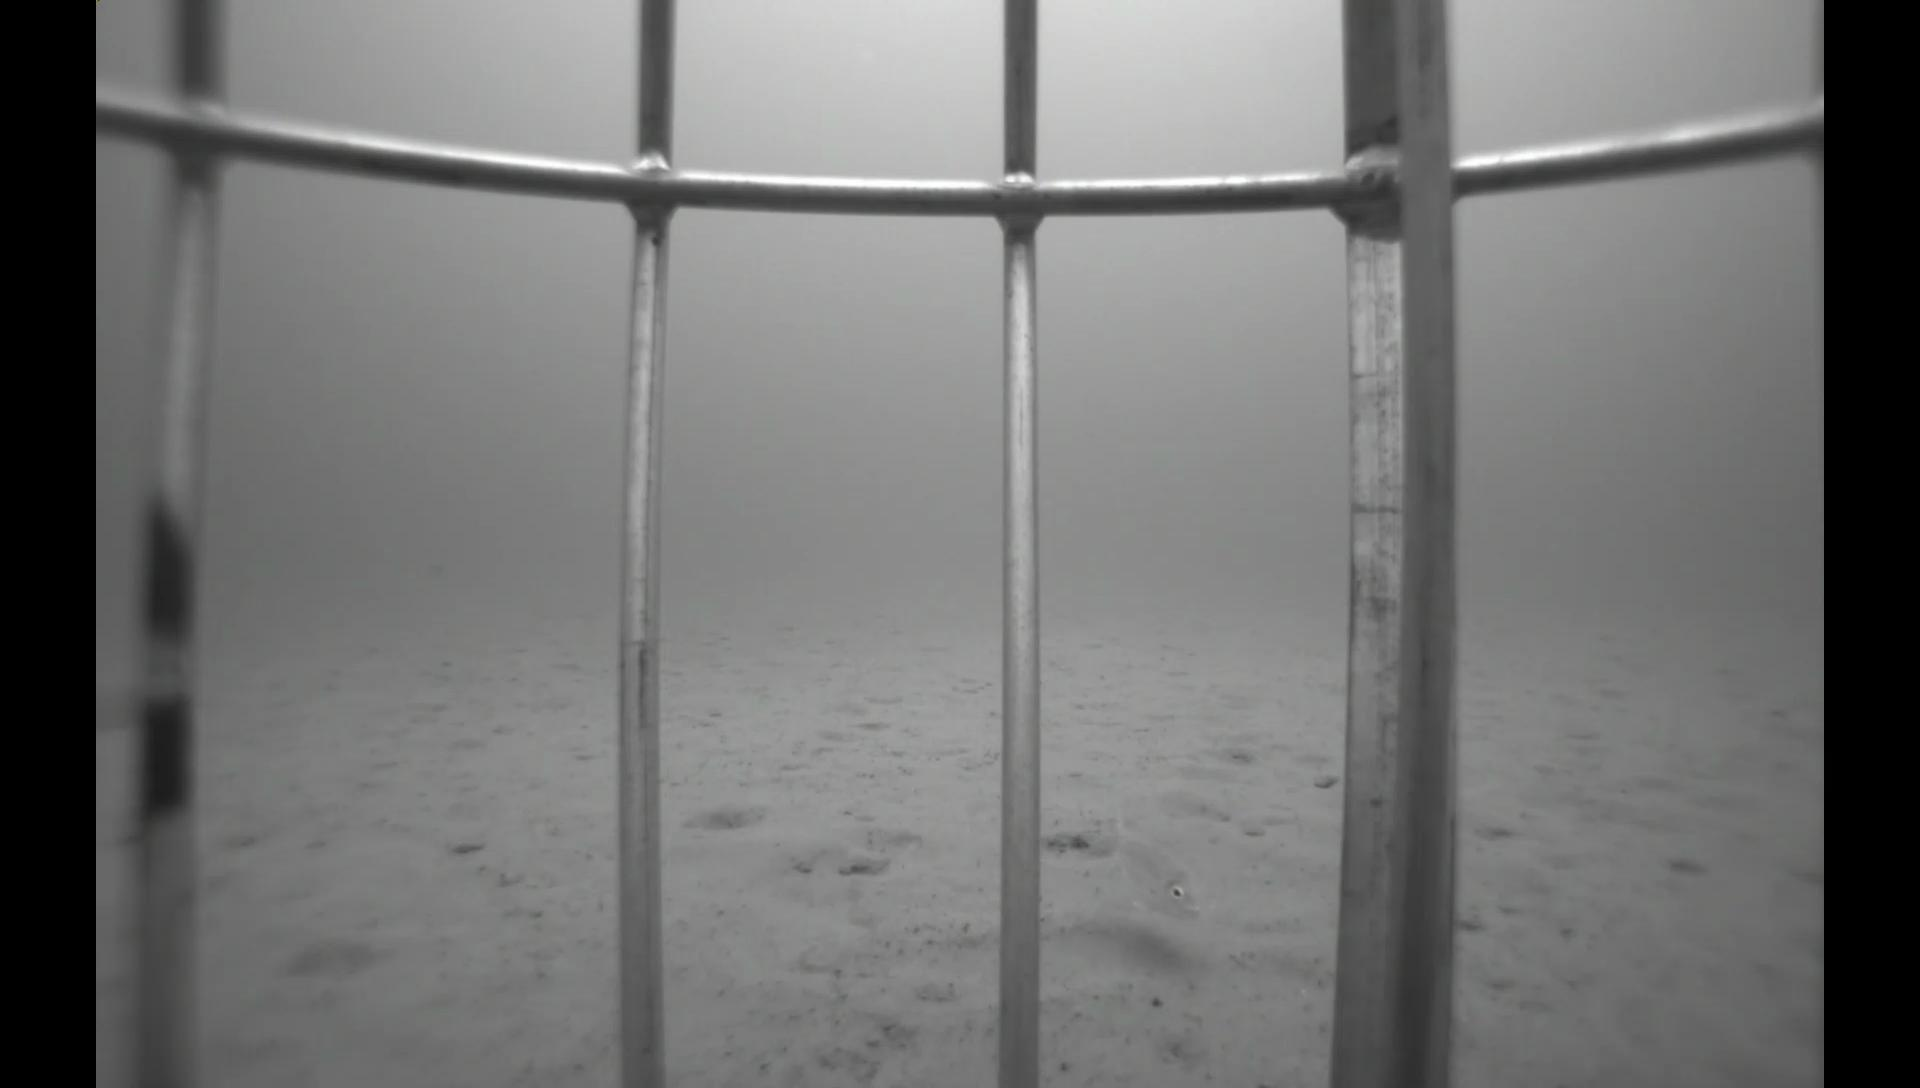CAULOLATILUSCYANOPS-170070101: (1755, 686, 1822, 756)
PRISTIPOMOIDES-170151800: (1073, 783, 1222, 935)
